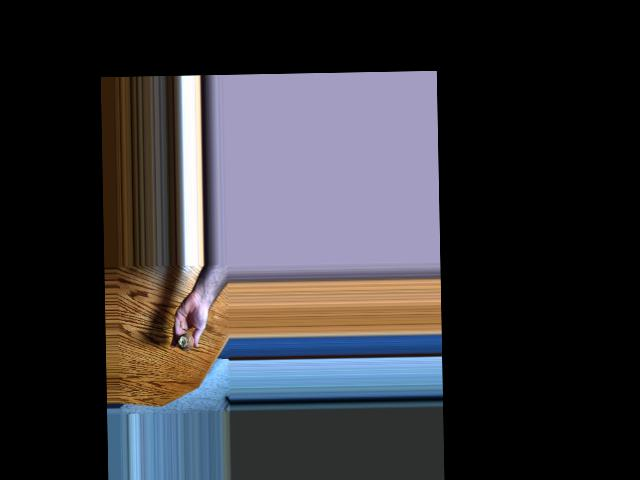sweet_potato: (177, 335, 196, 351)
